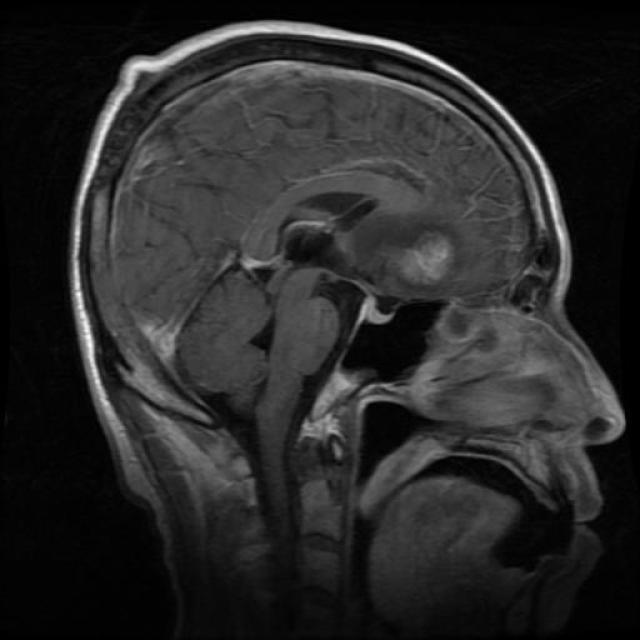meningioma: (399, 236, 452, 286)
